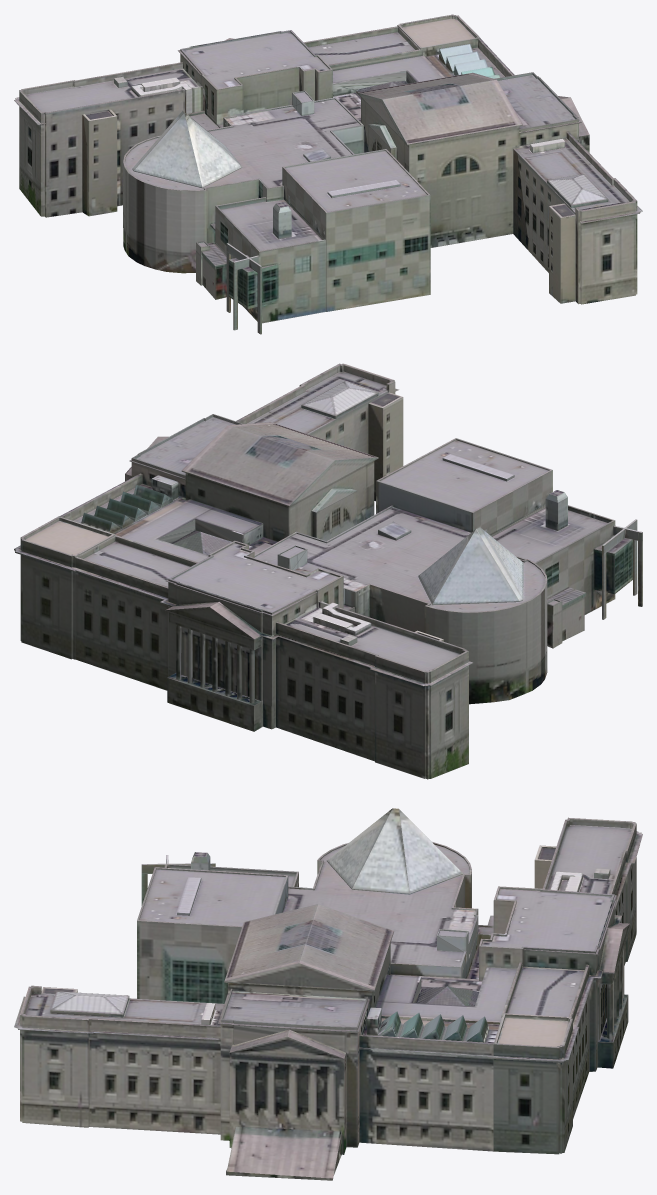
The model's file is Buildings_subset_72.dae.
The picture shows the model from 3 angles, top to bottom: view 1: azimuth 30°, elevation 25°; view 2: azimuth 150°, elevation 25°; view 3: azimuth 270°, elevation 25°; orthographic projection. The views are drawn at different scales.
Visible parts, largest first — view 1: Buildings_subset_72.dae (×33); view 2: Buildings_subset_72.dae (×33); view 3: Buildings_subset_72.dae (×19).
Part boxes in pixels (<box>): Buildings_subset_72.dae (×33): <box>14,14,642,323</box>; Buildings_subset_72.dae (×33): <box>14,363,642,778</box>; Buildings_subset_72.dae (×19): <box>14,808,642,1178</box>.
Size of the model in its own units: 412 by 425 by 125.
21 materials, 1 textured.
